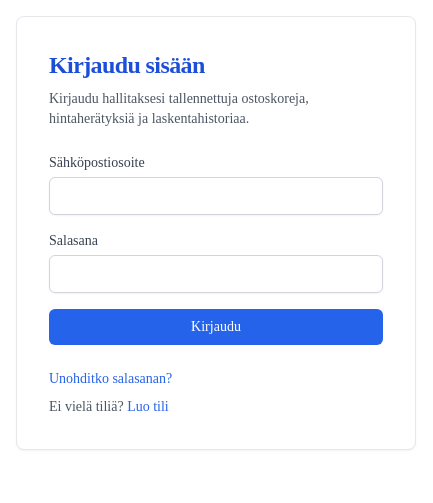
Test: LoginPage › shows the uniform credentials message on 401 (no enumeration)
The image size is (433, 503).
Step 1. Type "kayttaja@example.fi" into the field labelled "Sähköpostiosoite" → (216,196), box [49,177,383,215]
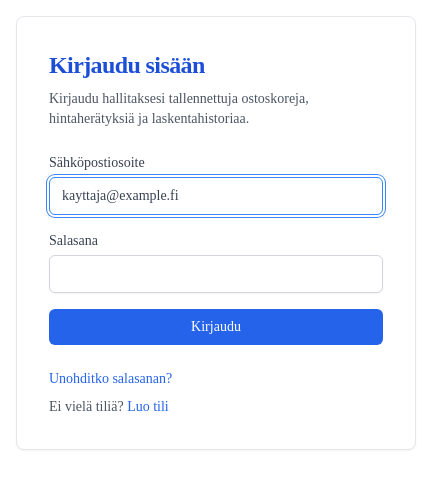
Step 2. Type "vasara" into the password field labelled "Salasana" → (216,274), box [49,255,383,293]
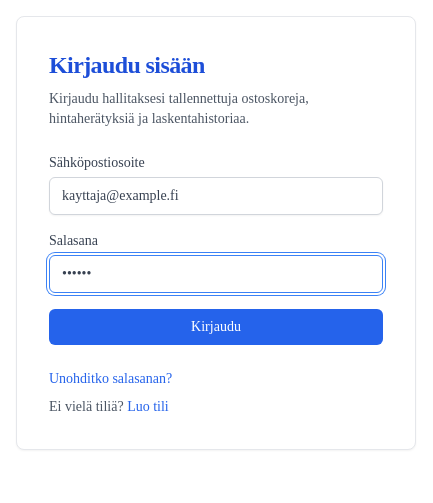
Step 3. Click the button with test id "login-submit" → (216,327), box [49,309,383,345]
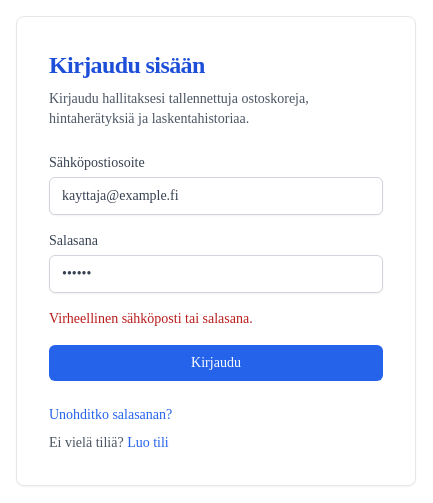
expect the message with test id "login-failure" reads "Virheellinen sähköposti tai salasana.": met, box [49,311,253,326]
